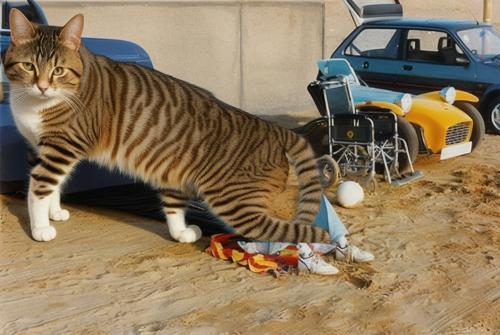car: (220, 53, 486, 175), (329, 2, 500, 134)
cat: (2, 2, 324, 242)
person: (226, 122, 376, 276)
person/foot: (298, 255, 339, 275), (334, 245, 375, 263)
person/hand: (250, 147, 274, 162), (273, 190, 292, 201)
person/head: (233, 122, 266, 160)
